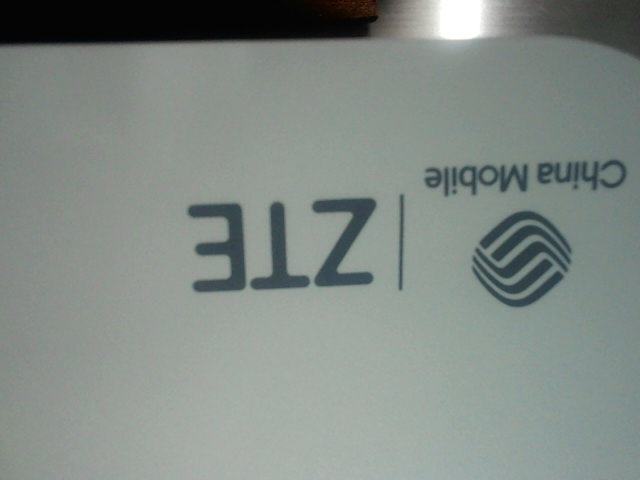AL_ZTEChinaMobile: (177, 147, 630, 312)
